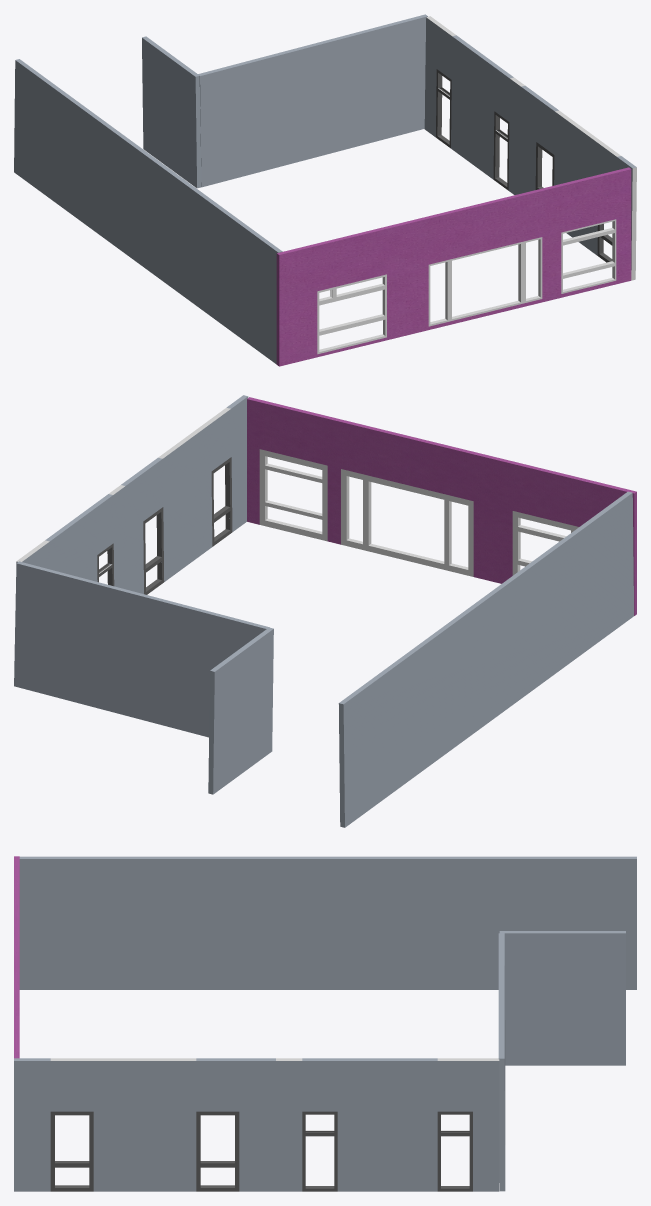
The model's file is EstructuraMedio.fbx.
3 renders of one model, top to bottom at view 1: azimuth 30°, elevation 25°; view 2: azimuth 150°, elevation 25°; view 3: azimuth 270°, elevation 25°, orthographic. The views are drawn at different scales.
Visible parts, largest first — view 1: Pared Izquierda, Pared fondo, Pared INT, Pared Derecha, Pared Cerca; view 2: Pared Izquierda, Pared fondo, Pared INT, Pared Derecha, Pared Cerca; view 3: Pared Izquierda, Pared Derecha, Pared Cerca, Pared INT, Pared fondo.
Part boxes in pixels (bbox=[...]): Pared Izquierda: bbox=[14, 59, 282, 364]; Pared fondo: bbox=[276, 167, 631, 366]; Pared INT: bbox=[198, 14, 427, 187]; Pared Derecha: bbox=[424, 16, 636, 280]; Pared Cerca: bbox=[142, 36, 201, 188]; Pared Izquierda: bbox=[338, 491, 633, 827]; Pared fondo: bbox=[247, 397, 636, 615]; Pared INT: bbox=[14, 561, 269, 737]; Pared Derecha: bbox=[16, 395, 248, 594]; Pared Cerca: bbox=[208, 627, 273, 794]; Pared Izquierda: bbox=[19, 856, 636, 989]; Pared Derecha: bbox=[14, 1058, 499, 1191]; Pared Cerca: bbox=[499, 931, 625, 1065]; Pared INT: bbox=[498, 933, 505, 1191]; Pared fondo: bbox=[14, 856, 19, 1058].
Size of the model in its own units: 7773 by 2416 by 9985.
